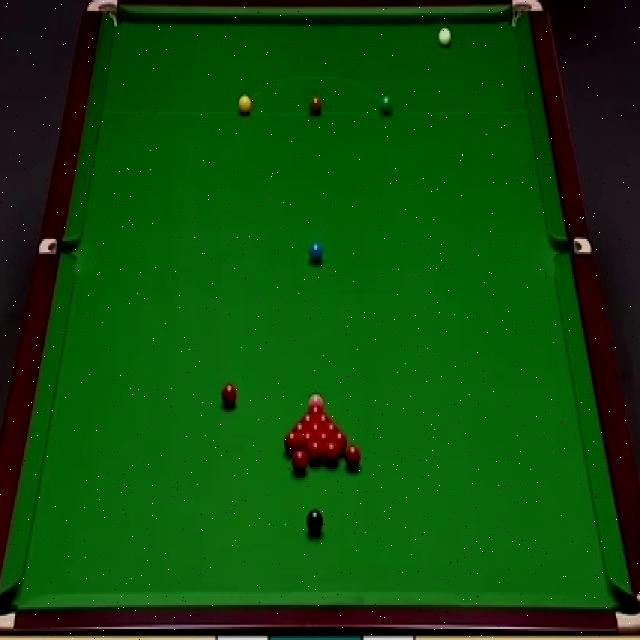black-ball: (306, 508, 324, 536)
blue-ball: (308, 241, 323, 261)
brown-ball: (308, 96, 323, 115)
green-ball: (379, 92, 394, 118)
pink-ball: (308, 393, 325, 412)
red-ball: (284, 429, 302, 456), (324, 439, 340, 468), (344, 444, 361, 471), (222, 382, 237, 410), (291, 447, 308, 471), (314, 432, 334, 452), (308, 439, 324, 463), (331, 431, 348, 452), (308, 420, 324, 437), (323, 420, 340, 436), (292, 420, 309, 435), (315, 410, 330, 427), (302, 432, 314, 453), (300, 412, 316, 426)
white-ball: (438, 27, 451, 47)
yellow-ball: (237, 93, 252, 116)
